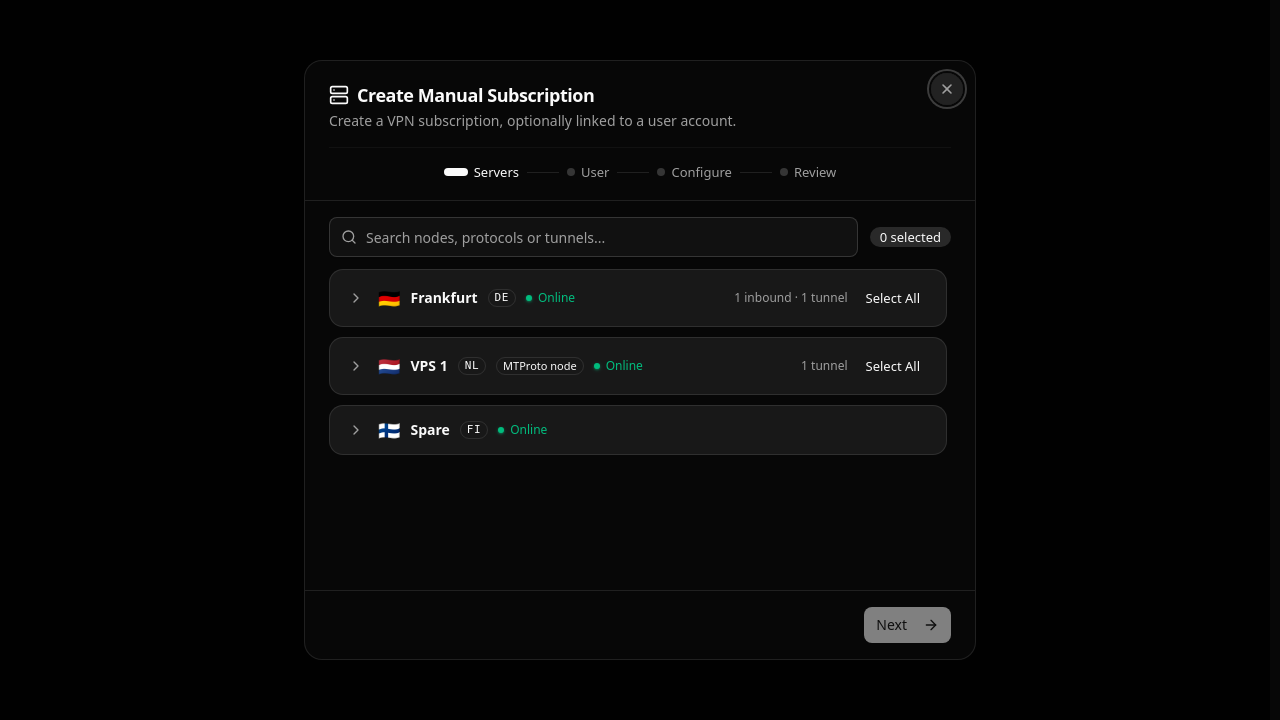
CreateManualSubscriptionDialog servers step › counts tunnels and inbounds together
Click the button "🇩🇪 Frankfurt DE Online 1 inbound · 1 tunnel Select All" at (444,298), box [330, 270, 946, 326]
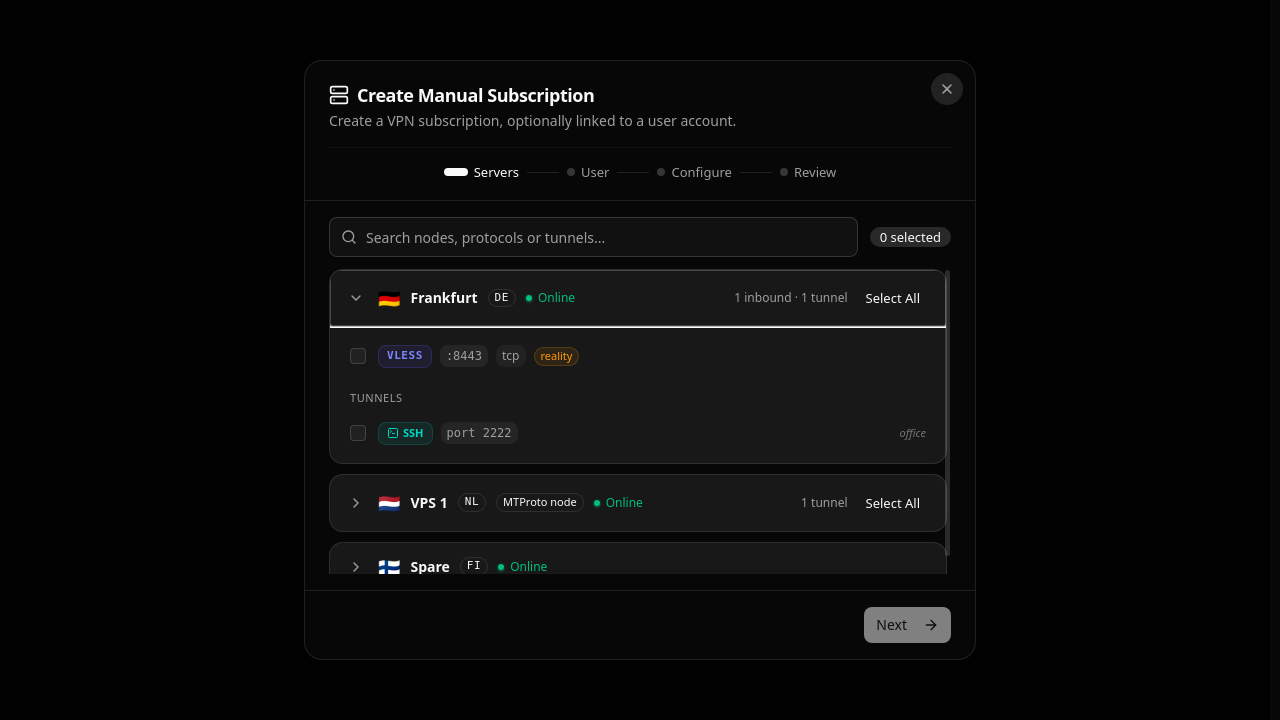
Click the checkbox named "SSH · port 2222" at (358,433), box [350, 425, 366, 441]
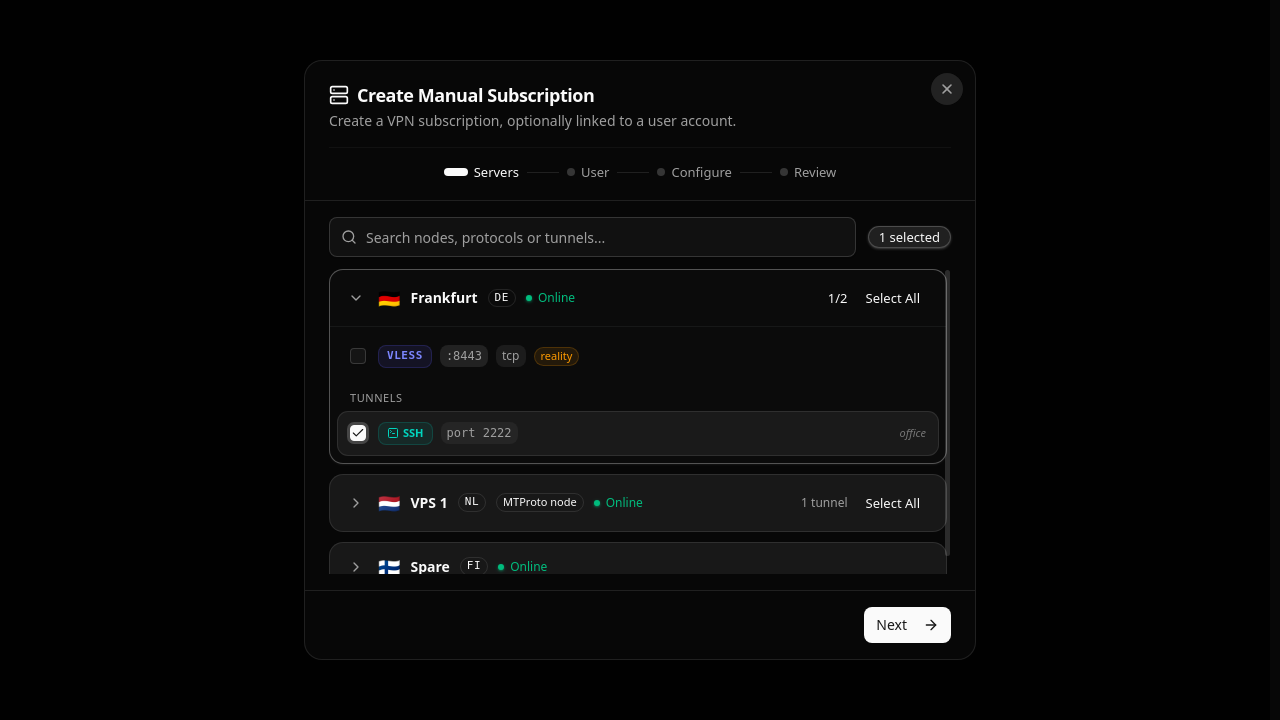
Now the text "1 selected" is shown, box [868, 226, 951, 248]
Click the 1st checkbox at (358,356), box [350, 348, 366, 364]
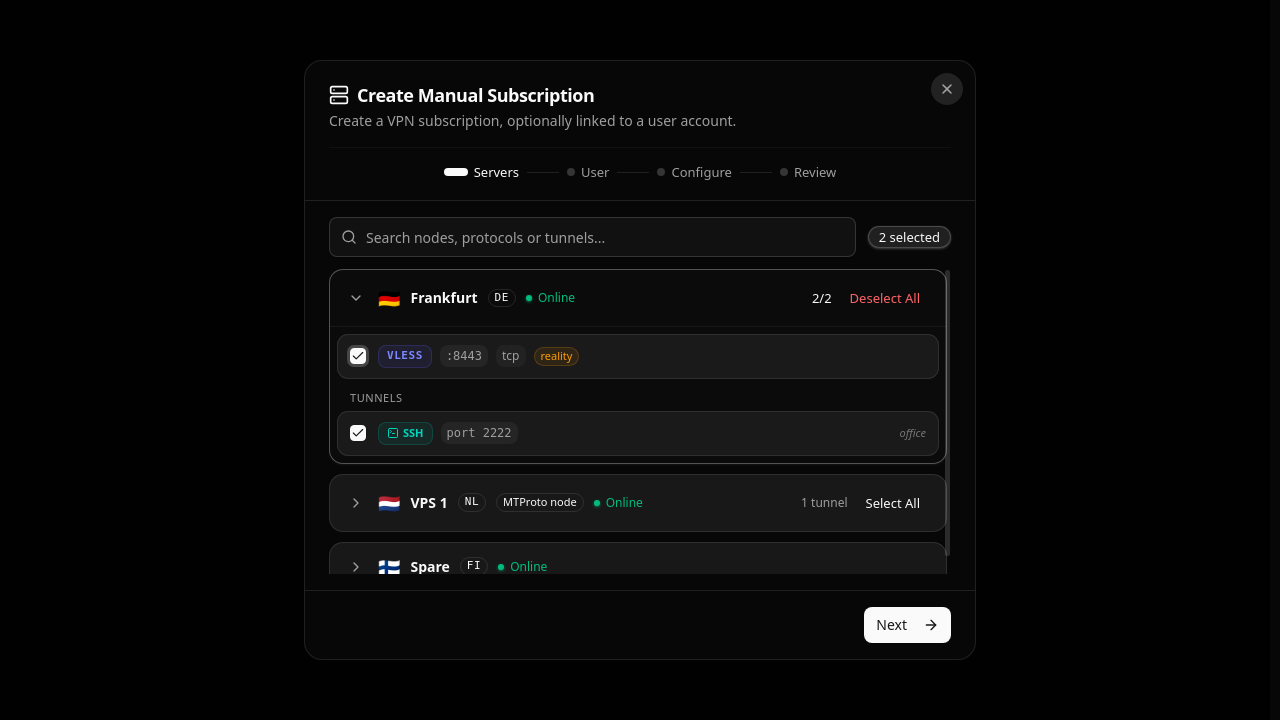
Now the text "2 selected" is shown, box [868, 226, 951, 248]
